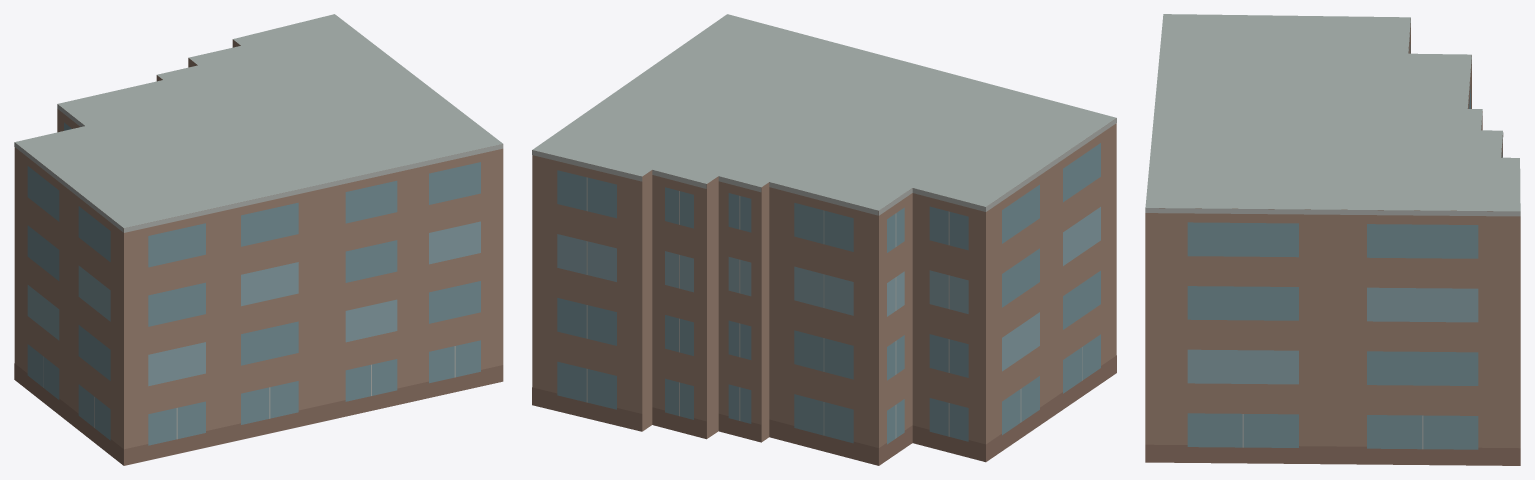
File: residential-835ccbe8-4a0b-4697-b854-d359fed9674d.glb
The picture shows the model from 3 angles, left to right: view 1: azimuth 30°, elevation 25°; view 2: azimuth 150°, elevation 25°; view 3: azimuth 270°, elevation 25°; orthographic projection. The views are drawn at different scales.
Visible parts, largest first — view 1: residential-835ccbe8-4a0b-4697-b854-d359fed9674d.tmp; view 2: residential-835ccbe8-4a0b-4697-b854-d359fed9674d.tmp; view 3: residential-835ccbe8-4a0b-4697-b854-d359fed9674d.tmp.
Part boxes in pixels (<box>): residential-835ccbe8-4a0b-4697-b854-d359fed9674d.tmp: <box>14,14,503,465</box>; residential-835ccbe8-4a0b-4697-b854-d359fed9674d.tmp: <box>532,14,1116,465</box>; residential-835ccbe8-4a0b-4697-b854-d359fed9674d.tmp: <box>1145,14,1520,465</box>.
Size of the model in its own units: 20.3 by 12.2 by 16.31.
